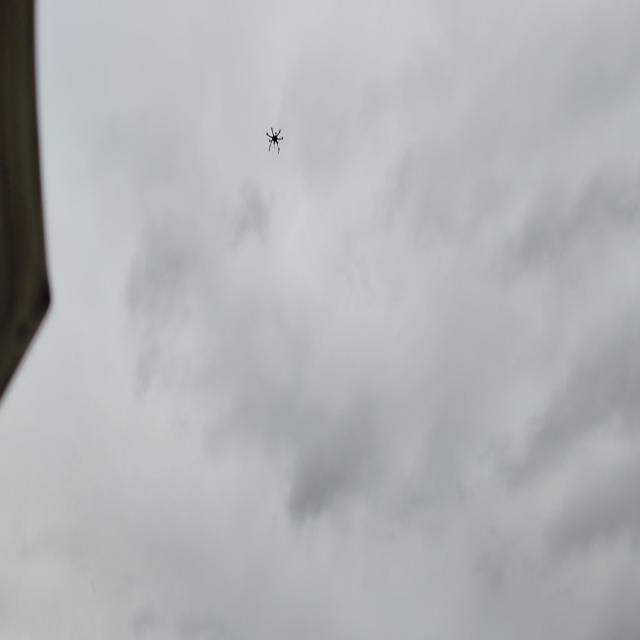drone: (263, 122, 287, 156)
